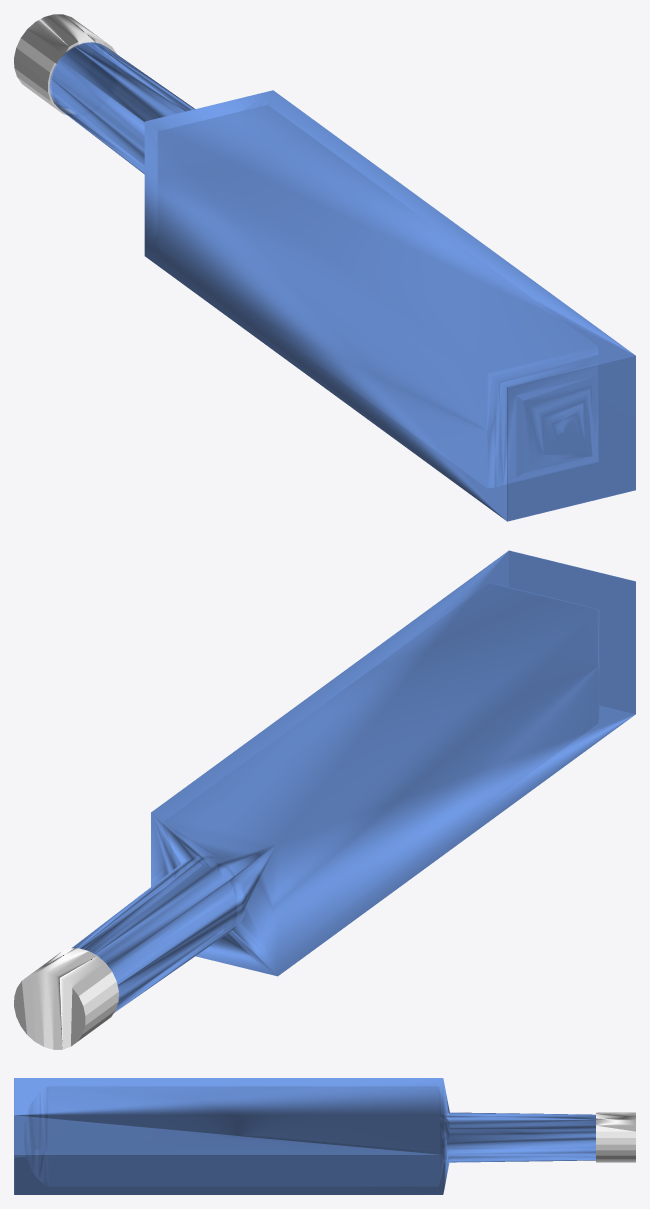
The model's file is model_align.obj.
The picture shows the model from 3 angles, top to bottom: view 1: azimuth 30°, elevation 25°; view 2: azimuth 150°, elevation 25°; view 3: azimuth 270°, elevation 25°; orthographic projection. The views are drawn at different scales.
Size of the model in its own units: 0.0225 by 0.0225 by 0.1589.
